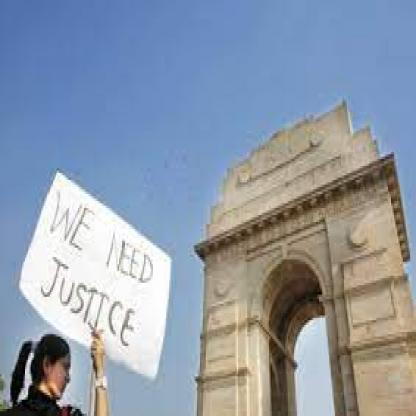BANNER: (19, 171, 172, 381)
